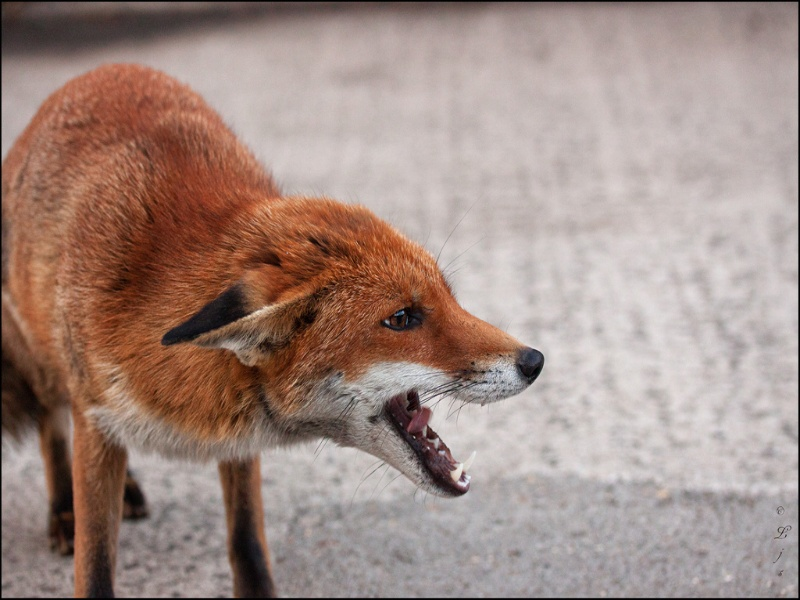fox: (7, 56, 550, 593)
